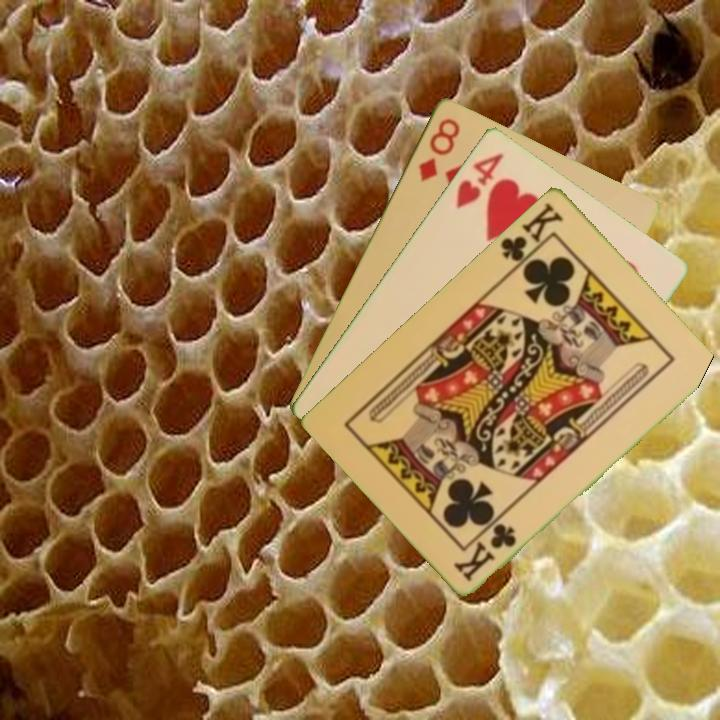4h: (452, 148, 507, 211)
8d: (415, 114, 463, 185)
Kc: (497, 198, 567, 273), (451, 518, 520, 585)
